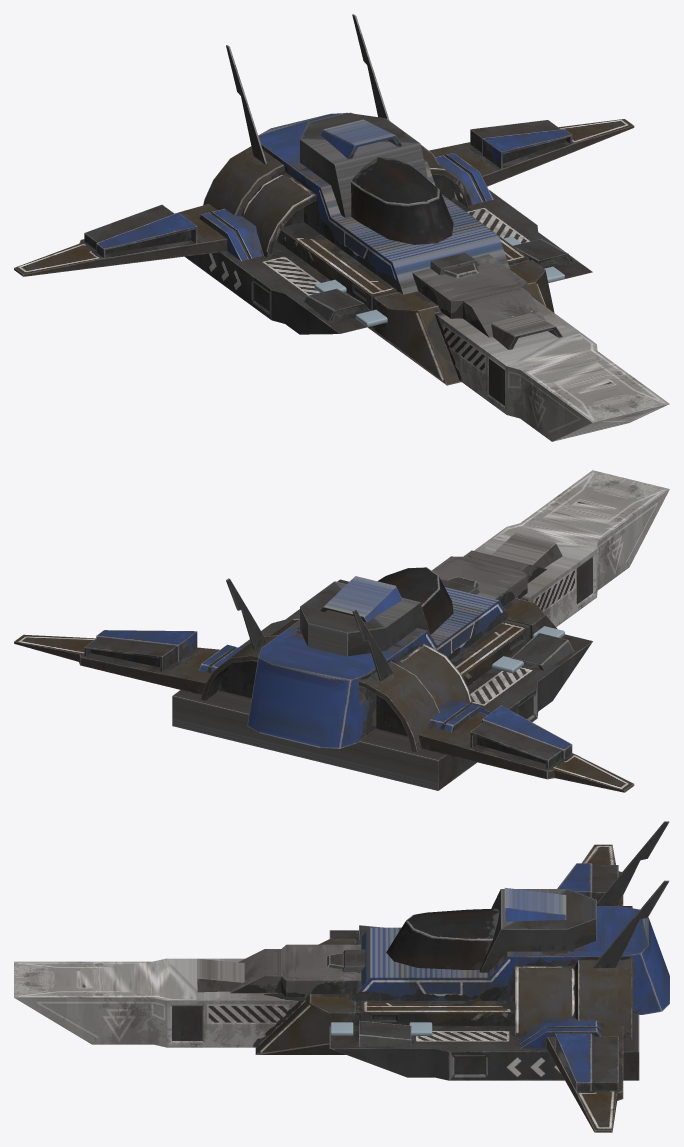
Rendered from vanguard.glb.
3 views of the same model, one above another, from view 1: azimuth 30°, elevation 25°; view 2: azimuth 150°, elevation 25°; view 3: azimuth 270°, elevation 25° (orthographic). The views are drawn at different scales.
Parts seen in each view (by area): view 1: vanguard_base_hull, vanguard_service_panel_1_1; view 2: vanguard_base_hull, vanguard_service_panel_1_1; view 3: vanguard_base_hull, vanguard_service_panel_1_1.
Part boxes in pixels (bbox=[...]): vanguard_base_hull: bbox=[14, 14, 669, 441]; vanguard_service_panel_1_1: bbox=[314, 236, 564, 326]; vanguard_base_hull: bbox=[14, 470, 669, 792]; vanguard_service_panel_1_1: bbox=[492, 626, 564, 673]; vanguard_base_hull: bbox=[14, 821, 669, 1132]; vanguard_service_panel_1_1: bbox=[330, 1022, 432, 1035].
Size of the model in its own units: 10.5 by 3.02 by 10.18.
2 materials, 1 textured.
